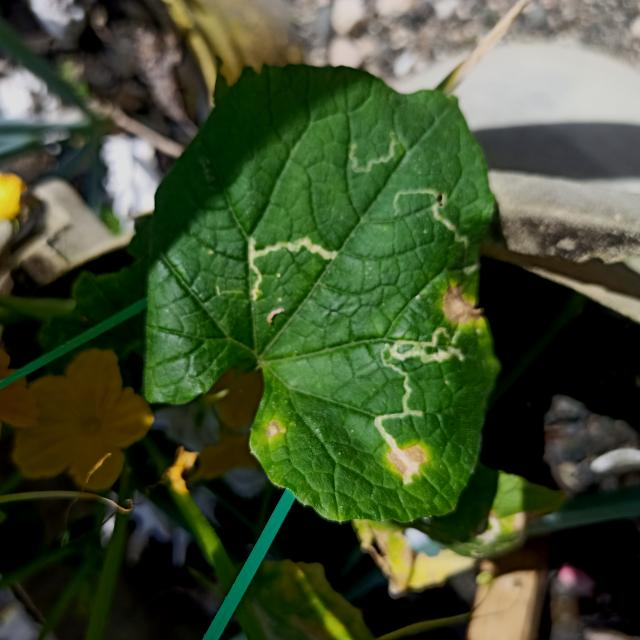disease_cucumber: (439, 286, 486, 327), (385, 444, 429, 478), (257, 415, 285, 445)
